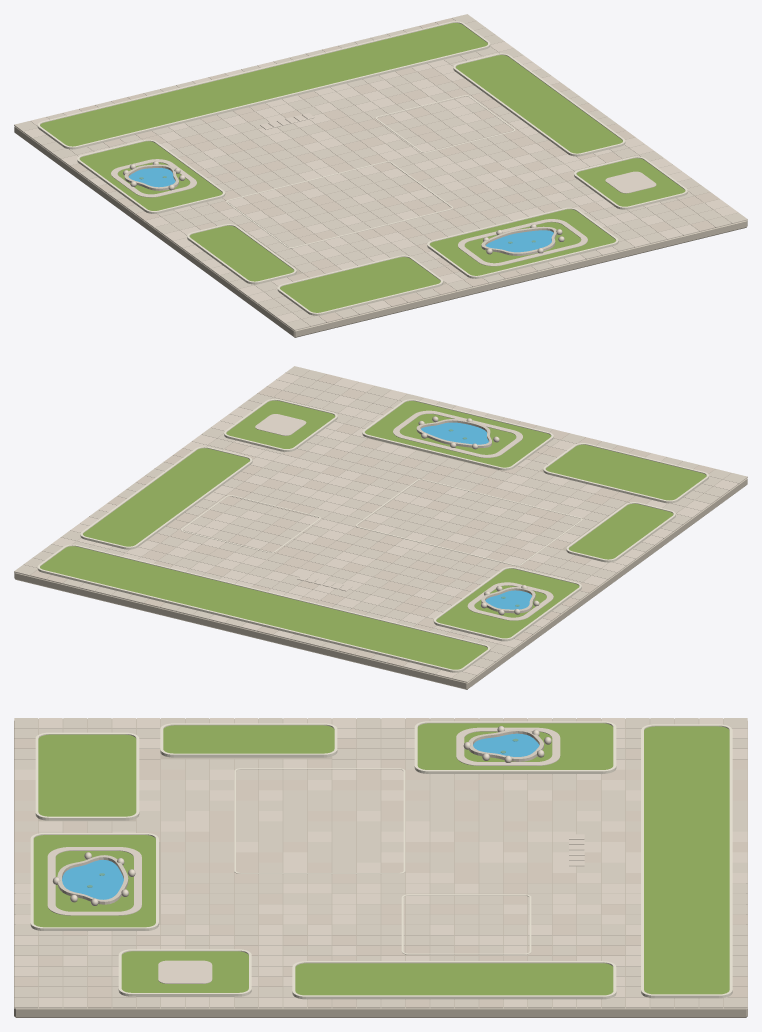
Rendered from home_landscape.glb.
The picture shows the model from 3 angles, top to bottom: view 1: azimuth 30°, elevation 25°; view 2: azimuth 150°, elevation 25°; view 3: azimuth 270°, elevation 25°; orthographic projection. The views are drawn at different scales.
Parts seen in each view (by area): view 1: paving, garden_1, foundation, garden_3, garden_5, garden_6, garden_2, garden_4, garden_7, garden_paths, pond_front, sidewalk_edges (+2 smaller); view 2: paving, garden_1, foundation, garden_3, garden_5, garden_6, garden_2, garden_4, garden_7, garden_paths, pond_front, sidewalk_edges (+2 smaller); view 3: paving, garden_1, foundation, garden_3, garden_5, garden_6, garden_2, garden_4, garden_7, garden_paths, pond_front, pond_rear (+2 smaller).
Boxes of the visible parts, box(x1,y1,x2,y2) form: paving: box(14, 14, 747, 330); garden_1: box(37, 21, 490, 149); foundation: box(14, 19, 747, 337); garden_3: box(453, 53, 625, 156); garden_5: box(277, 255, 443, 315); garden_6: box(427, 207, 618, 278); garden_2: box(77, 139, 225, 213); garden_4: box(187, 224, 296, 284); garden_7: box(574, 156, 687, 209); garden_paths: box(111, 113, 587, 266); pond_front: box(481, 224, 564, 255); sidewalk_edges: box(226, 95, 515, 248); paving: box(14, 366, 747, 682); garden_1: box(37, 544, 490, 672); foundation: box(14, 371, 747, 689); garden_3: box(80, 446, 252, 549); garden_5: box(543, 443, 708, 503); garden_6: box(362, 399, 553, 470); garden_2: box(433, 567, 581, 641); garden_4: box(566, 502, 675, 562); garden_7: box(224, 399, 337, 451); garden_paths: box(297, 410, 553, 620); pond_front: box(416, 416, 499, 449); sidewalk_edges: box(181, 479, 582, 565); paving: box(14, 718, 747, 1008); garden_1: box(641, 724, 732, 998); foundation: box(14, 719, 747, 1017); garden_3: box(292, 961, 616, 999); garden_5: box(35, 732, 139, 820); garden_6: box(30, 833, 158, 931); garden_2: box(414, 721, 616, 774); garden_4: box(160, 723, 337, 757); garden_7: box(118, 949, 251, 996); garden_paths: box(47, 727, 584, 915); pond_front: box(52, 852, 135, 905); pond_rear: box(463, 726, 551, 762).
Size of the model in its own units: 28 by 0.87 by 30.
